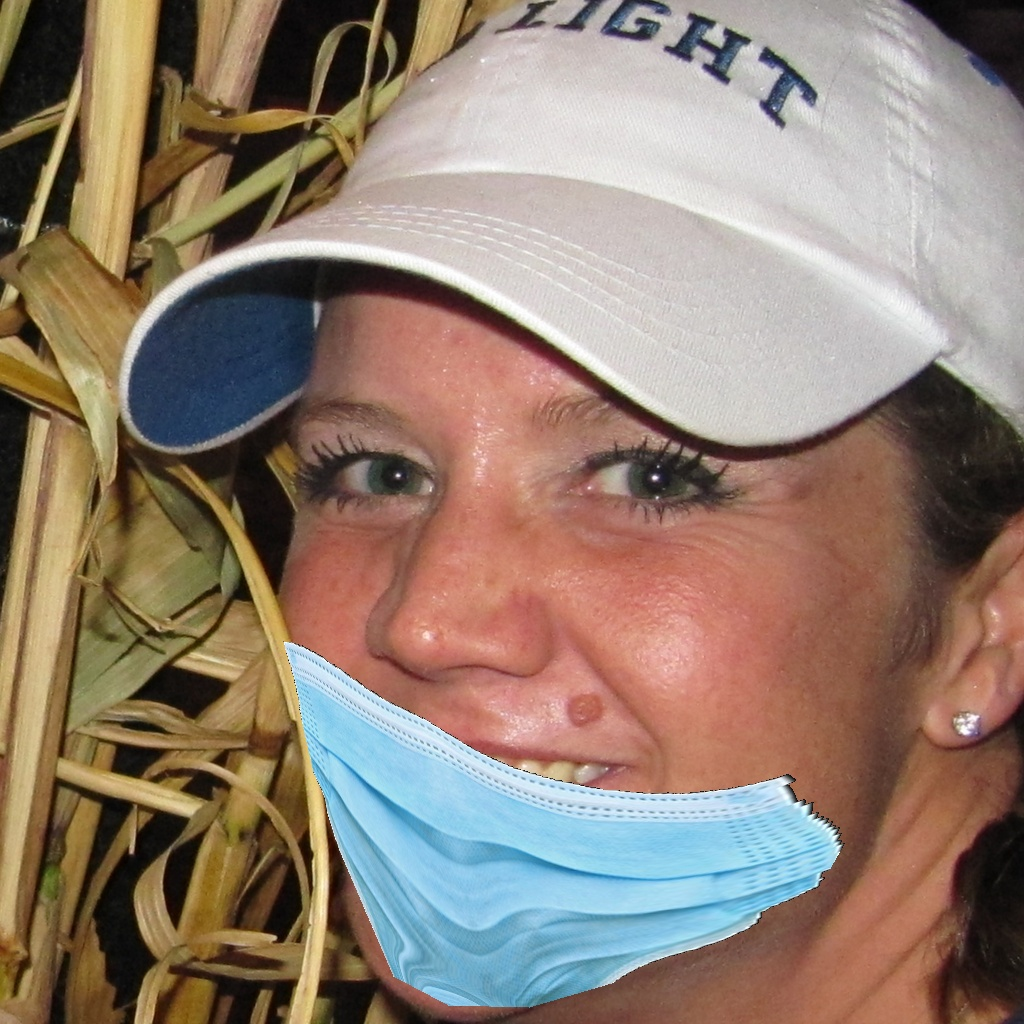mascarilla_mal_puesta: (184, 313, 887, 1008)
